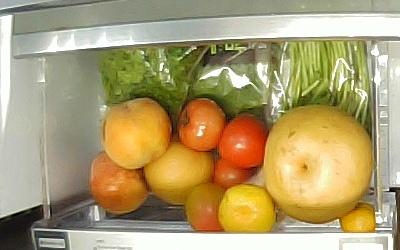peach: (102, 97, 172, 170), (89, 150, 149, 214)
pear: (262, 103, 373, 221), (144, 134, 214, 203)
tangerine: (218, 183, 275, 233), (339, 201, 375, 232)
tomato: (218, 116, 267, 168), (178, 98, 225, 152), (186, 182, 225, 232), (213, 157, 253, 192)
